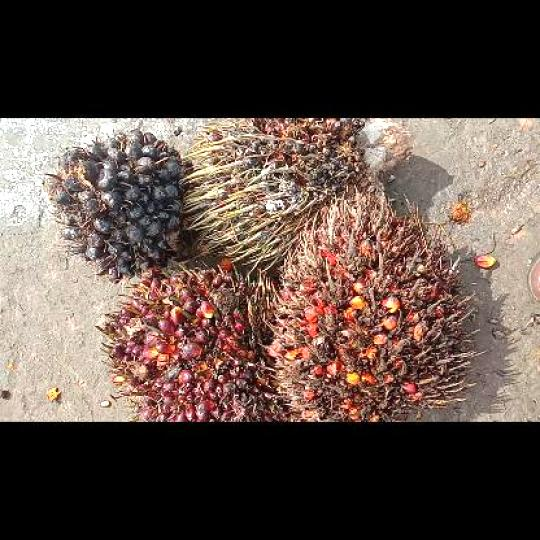masak: (95, 265, 282, 420)
terlalu masak: (265, 193, 470, 420)
